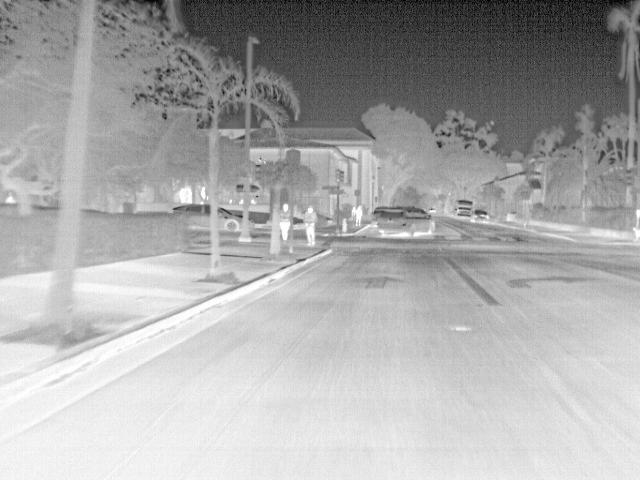car: (374, 204, 437, 238), (173, 200, 209, 228), (220, 204, 241, 234), (452, 199, 476, 218), (472, 209, 493, 222), (371, 205, 384, 225)
person: (301, 206, 319, 248), (276, 200, 292, 242), (354, 204, 367, 230), (631, 207, 640, 242)
